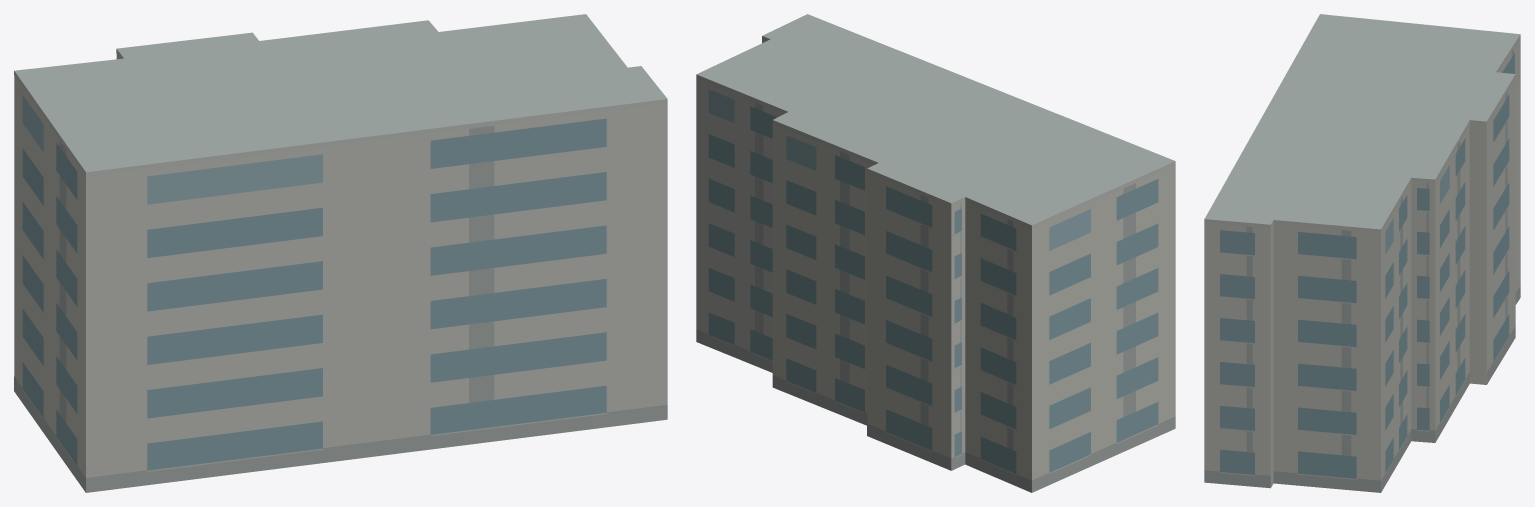
The model's file is survey-upis-32798635.glb.
The picture shows the model from 3 angles, left to right: view 1: azimuth 30°, elevation 25°; view 2: azimuth 150°, elevation 25°; view 3: azimuth 270°, elevation 25°; orthographic projection. The views are drawn at different scales.
Parts seen in each view (by area): view 1: survey-upis-32798635.tmp; view 2: survey-upis-32798635.tmp; view 3: survey-upis-32798635.tmp.
Boxes of the visible parts, x1,y1,x2,y2 form: survey-upis-32798635.tmp: [14, 14, 667, 492]; survey-upis-32798635.tmp: [696, 14, 1175, 492]; survey-upis-32798635.tmp: [1204, 14, 1520, 492].
Bounding box in the file's own units: 28.07 × 16 × 17.41.
